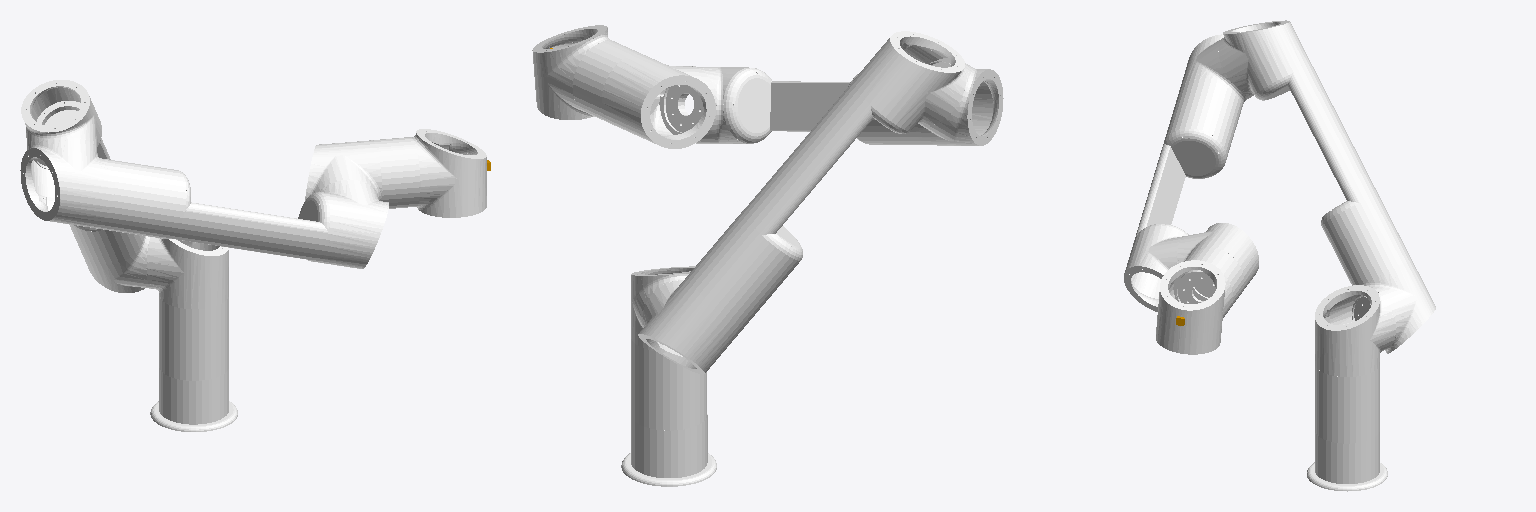
robot.urdf — kv:
<robot
  name="kv">
    <link
            name="base_link">
        <inertial>
            <origin
                    xyz="-3.48411235527561E-20 0.0301785281442949 -1.27737983847514E-17"
                    rpy="0 0 0" />
            <mass
                    value="0.04711204348934" />
            <inertia
                    ixx="0"
                    ixy="0"
                    ixz="0"
                    iyy="0"
                    iyz="0"
                    izz="0" />
        </inertial>
        <visual>
            <origin
                    xyz="0 0 0"
                    rpy="0 0 0" />
            <geometry>
                <mesh
                        filename="package://kv_description/meshes/base_link.stl" />
            </geometry>
            <material
                    name="">
                <color
                        rgba="1 1 1 1" />
            </material>
        </visual>
        <collision>
            <origin
                    xyz="0 0 0"
                    rpy="0 0 0" />
            <geometry>
                <mesh
                        filename="package://kv_description/meshes/base_link.stl" />
            </geometry>
        </collision>
    </link>
    <link
            name="link1">
        <inertial>
            <origin
                    xyz="0.00268827345999307 0.0945967858897385 0.00430360818024049"
                    rpy="0 0 0" />
            <mass
                    value="0.193063663185278" />
            <inertia
                    ixx="0.000298000845841169"
                    ixy="-1.60317043521837E-05"
                    ixz="-1.39110171668462E-06"
                    iyy="3.0959491270747E-06"
                    iyz="-2.56648644641351E-05"
                    izz="0.000296642815998793" />
        </inertial>
        <visual>
            <origin
                    xyz="0 0 0"
                    rpy="0 0 0" />
            <geometry>
                <mesh
                        filename="package://kv_description/meshes/link1.stl" />
            </geometry>
            <material
                    name="">
                <color
                        rgba="1 1 1 1" />
            </material>
        </visual>
        <collision>
            <origin
                    xyz="0 0 0"
                    rpy="0 0 0" />
            <geometry>
                <mesh
                        filename="package://kv_description/meshes/link1.stl" />
            </geometry>
        </collision>
    </link>
    <transmission name="joint1">
        <type>transmission_interface/SimpleTransmission</type>
        <joint name="joint1">
            <hardwareInterface>EffortJointInterface</hardwareInterface>
        </joint>
        <actuator name="joint1">
            <hardwareInterface>EffortJointInterface</hardwareInterface>
            <mechanicalReduction>1</mechanicalReduction>
        </actuator>
    </transmission>
    <joint
            name="joint1"
            type="continuous">
        <origin
                xyz="0 0 0.06"
                rpy="1.5708 -1.2109E-16 3.1197" />
        <parent
                link="base_link" />
        <child
                link="link1" />
        <axis
                xyz="0 1 0" />
    </joint>
    <link
            name="link2">
        <inertial>
            <origin
                    xyz="-0.00210246735273234 -0.00510040197050435 -0.0809051700038997"
                    rpy="0 0 0" />
            <mass
                    value="0.104926581676356" />
            <inertia
                    ixx="0"
                    ixy="0"
                    ixz="0"
                    iyy="0"
                    iyz="0"
                    izz="0" />
        </inertial>
        <visual>
            <origin
                    xyz="0 0 0"
                    rpy="0 0 0" />
            <geometry>
                <mesh
                        filename="package://kv_description/meshes/link2.stl" />
            </geometry>
            <material
                    name="">
                <color
                        rgba="1 1 1 1" />
            </material>
        </visual>
        <collision>
            <origin
                    xyz="0 0 0"
                    rpy="0 0 0" />
            <geometry>
                <mesh
                        filename="package://kv_description/meshes/link2.stl" />
            </geometry>
        </collision>
    </link>
    <transmission name="joint2">
        <type>transmission_interface/SimpleTransmission</type>
        <joint name="joint2">
            <hardwareInterface>EffortJointInterface</hardwareInterface>
        </joint>
        <actuator name="joint2">
            <hardwareInterface>EffortJointInterface</hardwareInterface>
            <mechanicalReduction>1</mechanicalReduction>
        </actuator>
    </transmission>
    <joint
            name="joint2"
            type="continuous">
        <origin
                xyz="0 0.135 0"
                rpy="2.5615 0.56348 -0.8869" />
        <parent
                link="link1" />
        <child
                link="link2" />
        <axis
                xyz="0 0 1" />
    </joint>
    <link
            name="link3">
        <inertial>
            <origin
                    xyz="0.000280029217700144 0.164778711604506 0.00400958216544994"
                    rpy="0 0 0" />
            <mass
                    value="0.787800303264324" />
            <inertia
                    ixx="0.00722772946814379"
                    ixy="-4.19420038114878E-05"
                    ixz="2.89088030775027E-06"
                    iyy="6.98144647424678E-05"
                    iyz="-6.62618668950201E-05"
                    izz="0.00715871907746602" />
        </inertial>
        <visual>
            <origin
                    xyz="0 0 0"
                    rpy="0 0 0" />
            <geometry>
                <mesh
                        filename="package://kv_description/meshes/link3.stl" />
            </geometry>
            <material
                    name="">
                <color
                        rgba="1 1 1 1" />
            </material>
        </visual>
        <collision>
            <origin
                    xyz="0 0 0"
                    rpy="0 0 0" />
            <geometry>
                <mesh
                        filename="package://kv_description/meshes/link3.stl" />
            </geometry>
        </collision>
    </link>
    <transmission name="joint3">
        <type>transmission_interface/SimpleTransmission</type>
        <joint name="joint3">
            <hardwareInterface>EffortJointInterface</hardwareInterface>
        </joint>
        <actuator name="joint3">
            <hardwareInterface>EffortJointInterface</hardwareInterface>
            <mechanicalReduction>1</mechanicalReduction>
        </actuator>
    </transmission>
    <joint
            name="joint3"
            type="continuous">
        <origin
                xyz="0 0 -0.09"
                rpy="3.1416 1.3043 1.8969E-15" />
        <parent
                link="link2" />
        <child
                link="link3" />
        <axis
                xyz="0 1 0" />
    </joint>
    <link
            name="link4">
        <inertial>
            <origin
                    xyz="-0.00210198291625163 -0.00510034361445849 -0.0809043556658708"
                    rpy="0 0 0" />
            <mass
                    value="0.104930081178366" />
            <inertia
                    ixx="0"
                    ixy="0"
                    ixz="0"
                    iyy="0"
                    iyz="0"
                    izz="0" />
        </inertial>
        <visual>
            <origin
                    xyz="0 0 0"
                    rpy="0 0 0" />
            <geometry>
                <mesh
                        filename="package://kv_description/meshes/link4.stl" />
            </geometry>
            <material
                    name="">
                <color
                        rgba="1 1 1 1" />
            </material>
        </visual>
        <collision>
            <origin
                    xyz="0 0 0"
                    rpy="0 0 0" />
            <geometry>
                <mesh
                        filename="package://kv_description/meshes/link4.stl" />
            </geometry>
        </collision>
    </link>
    <transmission name="joint4">
        <type>transmission_interface/SimpleTransmission</type>
        <joint name="joint4">
            <hardwareInterface>EffortJointInterface</hardwareInterface>
        </joint>
        <actuator name="joint4">
            <hardwareInterface>EffortJointInterface</hardwareInterface>
            <mechanicalReduction>1</mechanicalReduction>
        </actuator>
    </transmission>
    <joint
            name="joint4"
            type="continuous">
        <origin
                xyz="0 0.36 0"
                rpy="3.7192E-15 -1.1102E-15 -0.95994" />
        <parent
                link="link3" />
        <child
                link="link4" />
        <axis
                xyz="0 0 1" />
    </joint>
    <link
            name="link5">
        <inertial>
            <origin
                    xyz="0.000280010295339694 0.10429768048651 0.00400942872407001"
                    rpy="0 0 0" />
            <mass
                    value="0.787801196097673" />
            <inertia
                    ixx="0.00722779594241823"
                    ixy="-4.19393237803521E-05"
                    ixz="2.89088498641138E-06"
                    iyy="6.98174241497681E-05"
                    iyz="-6.62378095785077E-05"
                    izz="0.00715878247805226" />
        </inertial>
        <visual>
            <origin
                    xyz="0 0 0"
                    rpy="0 0 0" />
            <geometry>
                <mesh
                        filename="package://kv_description/meshes/link5.stl" />
            </geometry>
            <material
                    name="">
                <color
                        rgba="1 1 1 1" />
            </material>
        </visual>
        <collision>
            <origin
                    xyz="0 0 0"
                    rpy="0 0 0" />
            <geometry>
                <mesh
                        filename="package://kv_description/meshes/link5.stl" />
            </geometry>
        </collision>
    </link>
    <transmission name="joint5">
        <type>transmission_interface/SimpleTransmission</type>
        <joint name="joint5">
            <hardwareInterface>EffortJointInterface</hardwareInterface>
        </joint>
        <actuator name="joint5">
            <hardwareInterface>EffortJointInterface</hardwareInterface>
            <mechanicalReduction>1</mechanicalReduction>
        </actuator>
    </transmission>
    <joint
            name="joint5"
            type="continuous">
        <origin
                xyz="0 -0.060481 -0.09"
                rpy="3.1416 0.37986 -1.4943E-17" />
        <parent
                link="link4" />
        <child
                link="link5" />
        <axis
                xyz="0 1 0" />
    </joint>
    <link
            name="link6">
        <inertial>
            <origin
                    xyz="0.020583837284486 -0.0244927019748049 -0.00137450937153039"
                    rpy="0 0 0" />
            <mass
                    value="0.160406414383487" />
            <inertia
                    ixx="0.000103445694540816"
                    ixy="1.42967202859882E-05"
                    ixz="-4.5692189273846E-07"
                    iyy="2.08345289893432E-06"
                    iyz="3.30274154233011E-06"
                    izz="0.000105318036795272" />
        </inertial>
        <visual>
            <origin
                    xyz="0 0 0"
                    rpy="0 0 0" />
            <geometry>
                <mesh
                        filename="package://kv_description/meshes/link6.stl" />
            </geometry>
            <material
                    name="">
                <color
                        rgba="1 1 1 1" />
            </material>
        </visual>
        <collision>
            <origin
                    xyz="0 0 0"
                    rpy="0 0 0" />
            <geometry>
                <mesh
                        filename="package://kv_description/meshes/link6.stl" />
            </geometry>
        </collision>
    </link>
    <transmission name="joint6">
        <type>transmission_interface/SimpleTransmission</type>
        <joint name="joint6">
            <hardwareInterface>EffortJointInterface</hardwareInterface>
        </joint>
        <actuator name="joint6">
            <hardwareInterface>EffortJointInterface</hardwareInterface>
            <mechanicalReduction>1</mechanicalReduction>
        </actuator>
    </transmission>
    <joint
            name="joint6"
            type="continuous">
        <origin
                xyz="0 0.29952 -0.063466"
                rpy="2.8394 1.5708 0" />
        <parent
                link="link5" />
        <child
                link="link6" />
        <axis
                xyz="-1 0 0" />
    </joint>
    <link
            name="link7">
        <inertial>
            <origin
                    xyz="-0.00185349311031408 -0.0095125912915775 -0.0620479983864288"
                    rpy="0 0 0" />
            <mass
                    value="0.118970373701656" />
            <inertia
                    ixx="0"
                    ixy="0"
                    ixz="0"
                    iyy="0"
                    iyz="0"
                    izz="0" />
        </inertial>
        <visual>
            <origin
                    xyz="0 0 0"
                    rpy="0 0 0" />
            <geometry>
                <mesh
                        filename="package://kv_description/meshes/link7.stl" />
            </geometry>
            <material
                    name="">
                <color
                        rgba="1 1 1 1" />
            </material>
        </visual>
        <collision>
            <origin
                    xyz="0 0 0"
                    rpy="0 0 0" />
            <geometry>
                <mesh
                        filename="package://kv_description/meshes/link7.stl" />
            </geometry>
        </collision>
    </link>
    <transmission name="joint7">
        <type>transmission_interface/SimpleTransmission</type>
        <joint name="joint7">
            <hardwareInterface>EffortJointInterface</hardwareInterface>
        </joint>
        <actuator name="joint7">
            <hardwareInterface>EffortJointInterface</hardwareInterface>
            <mechanicalReduction>1</mechanicalReduction>
        </actuator>
    </transmission>
    <joint
            name="joint7"
            type="continuous">
        <origin
                xyz="0.026534 -0.06493 0"
                rpy="1.5708 -0.40897 -3.1416" />
        <parent
                link="link6" />
        <child
                link="link7" />
        <axis
                xyz="0 0 -1" />
    </joint>

    <link name="camera_link">
        <collision>
            <origin xyz="0 0 0" rpy="0 1.5 0"/>
            <geometry>
                <box size="0.01 0.01 0.01"/>
            </geometry>
        </collision>

        <visual>
            <origin xyz="0 0 0" rpy="0 1.5 0"/>
            <geometry>
                <box size="0.01 0.01 0.01"/>
            </geometry>
            <material name="green"/>
        </visual>

        <inertial>
            <mass value="0.5" />
            <origin xyz="0 0 0" rpy="0 1.5 0"/>
            <box_inertia m="0.5" x="0.01" y="0.01" z="0.01" />
            <inertia ixx="1e-6" ixy="0" ixz="0" iyy="1e-6" iyz="0" izz="1e-6" />
        </inertial>
    </link>

    <joint name="camera_joint" type="fixed">
        <origin xyz="0 0 -0.11" rpy="-1.6 1.6 0"/>
        <parent link="link7"/>
        <child link="camera_link"/>
    </joint>
    <gazebo reference="link1">
        <turnGravityOff>true</turnGravityOff>
        <kinematic>true</kinematic>
    </gazebo>
    <gazebo reference="link2">
        <turnGravityOff>true</turnGravityOff>
        <kinematic>true</kinematic>
    </gazebo>
    <gazebo reference="link3">
        <turnGravityOff>true</turnGravityOff>
        <kinematic>true</kinematic>
    </gazebo>
    <gazebo reference="link4">
        <turnGravityOff>true</turnGravityOff>
        <kinematic>true</kinematic>
    </gazebo>
    <gazebo reference="link5">
        <turnGravityOff>true</turnGravityOff>
        <kinematic>true</kinematic>
    </gazebo>
    <gazebo reference="link6">
        <turnGravityOff>true</turnGravityOff>
        <kinematic>true</kinematic>
    </gazebo>
    <gazebo reference="link7">
        <turnGravityOff>true</turnGravityOff>
        <kinematic>true</kinematic>
    </gazebo>
    <!-- camera -->
    <gazebo reference="camera_link">
        <sensor type="camera" name="camera1">
            <update_rate>30.0</update_rate>
            <camera name="head">
                <horizontal_fov>1.3962634</horizontal_fov>
                <image>
                    <width>1280</width>
                    <height>720</height>
                    <format>R8G8B8</format>
                </image>
                <clip>
                    <near>0.02</near>
                    <far>300</far>
                </clip>
                <noise>
                    <type>gaussian</type>
                    <!-- Noise is sampled independently per pixel on each frame.
                         That pixel's noise value is added to each of its color
                         channels, which at that point lie in the range [0,1]. -->
                    <mean>0.0</mean>
                    <stddev>0.007</stddev>
                </noise>
            </camera>
            <plugin name="camera_controller" filename="libgazebo_ros_camera.so">
                <alwaysOn>true</alwaysOn>
                <updateRate>0.0</updateRate>
                <cameraName>kv/camera1</cameraName>
                <imageTopicName>image_raw</imageTopicName>
                <cameraInfoTopicName>camera_info</cameraInfoTopicName>
                <frameName>camera_link</frameName>
                <hackBaseline>0.07</hackBaseline>
                <distortionK1>0.0</distortionK1>
                <distortionK2>0.0</distortionK2>
                <distortionK3>0.0</distortionK3>
                <distortionT1>0.0</distortionT1>
                <distortionT2>0.0</distortionT2>
            </plugin>
        </sensor>
    </gazebo>
    <gazebo>
        <plugin filename="libgazebo_ros_control.so" name="gazebo_ros_control">
            <robotNamespace>/kv</robotNamespace>
        </plugin>
    </gazebo>
</robot>

--- Render facts (derived) ---
Views: 3 orthographic renders of the robot side by side, from view 1: azimuth 30°, elevation 25°; view 2: azimuth 150°, elevation 25°; view 3: azimuth 270°, elevation 25°.
Model kv with 9 links and 8 joints (7 continuous, 1 fixed), rooted at base_link, posed all joints at 0.
Links seen in each view (by area): view 1: link5, link1, link4, link3, link6, link7, base_link, link2; view 2: link3, link6, link5, link1, link2, base_link, link7, link4; view 3: link3, link5, link1, link7, link6, base_link, link2, link4.
Boxes of the visible links, x1,y1,x2,y2 form: link5: (96,159,388,268); link1: (146,237,228,380); link4: (20,137,114,227); link3: (21,80,144,264); link6: (305,137,420,208); link7: (411,129,486,217); base_link: (150,368,237,431); link2: (81,236,150,292); link3: (688,31,965,324); link6: (573,41,716,148); link5: (681,66,927,144); link1: (631,266,706,430); link2: (638,276,745,374); base_link: (621,414,716,486); link7: (532,25,614,119); link4: (912,58,1003,145); link3: (1219,20,1411,285); link5: (1124,80,1240,311); link1: (1315,285,1395,443); link7: (1156,260,1232,354); link6: (1173,223,1258,309); base_link: (1307,432,1387,491); link2: (1354,261,1435,353); link4: (1179,34,1253,109).
Bounding box of the posed robot: 0.5672 × 0.3834 × 0.5052 m (x, y, z).
Meshes: 8 distinct files referenced, 8 mesh visuals loaded (8 binary STL).
